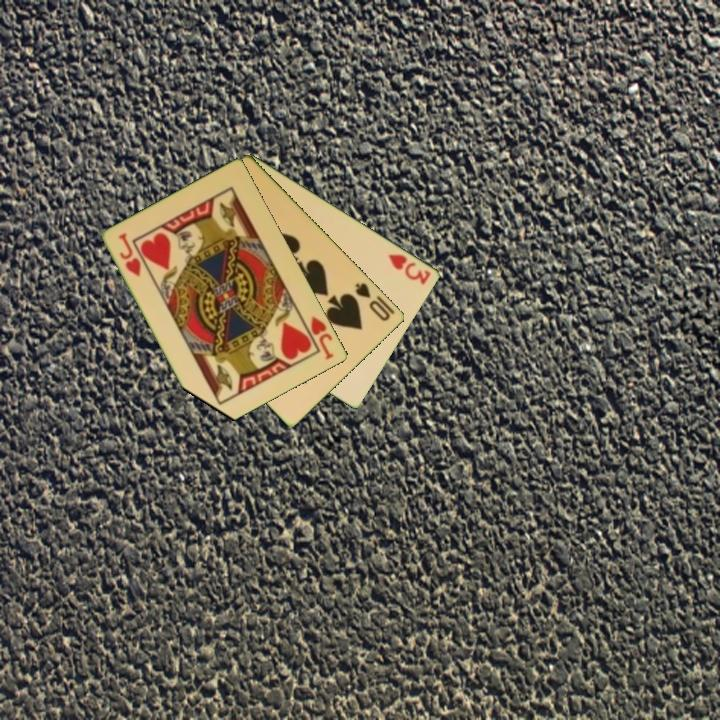10s: (352, 279, 393, 324)
3h: (385, 250, 434, 287)
Jh: (298, 312, 337, 363), (115, 230, 144, 280)
